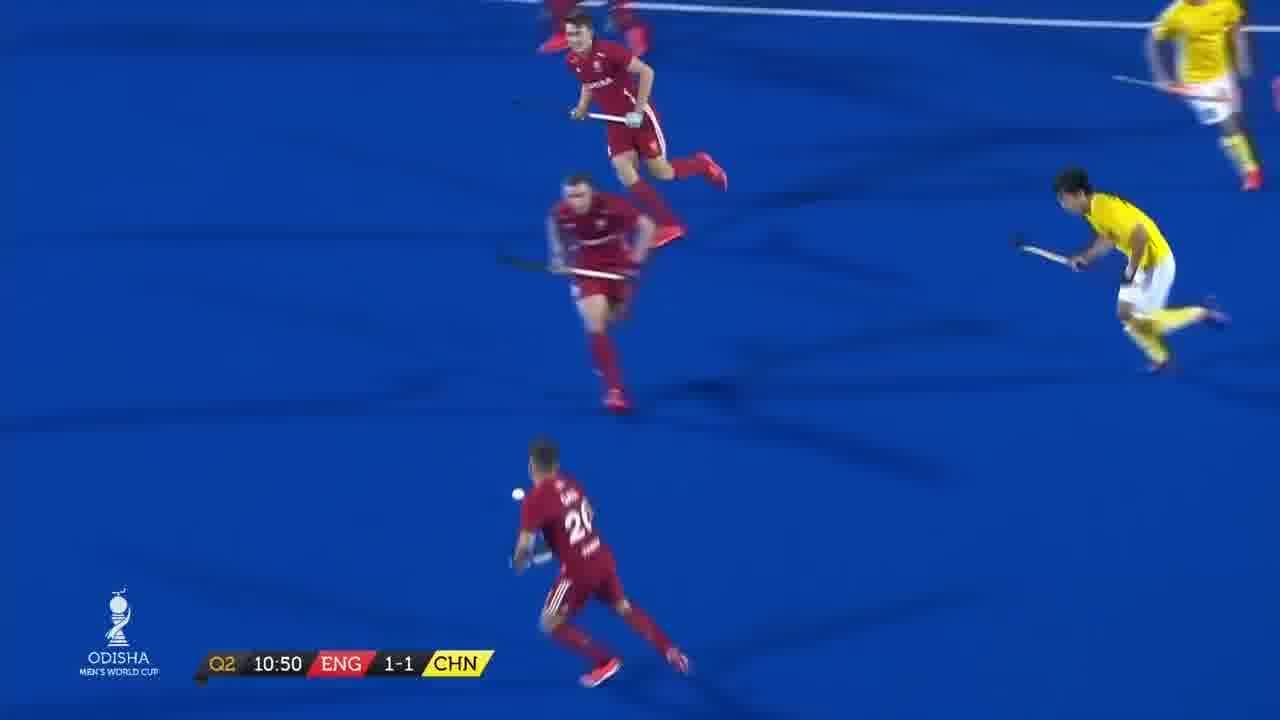ball: (502, 474, 534, 518)
